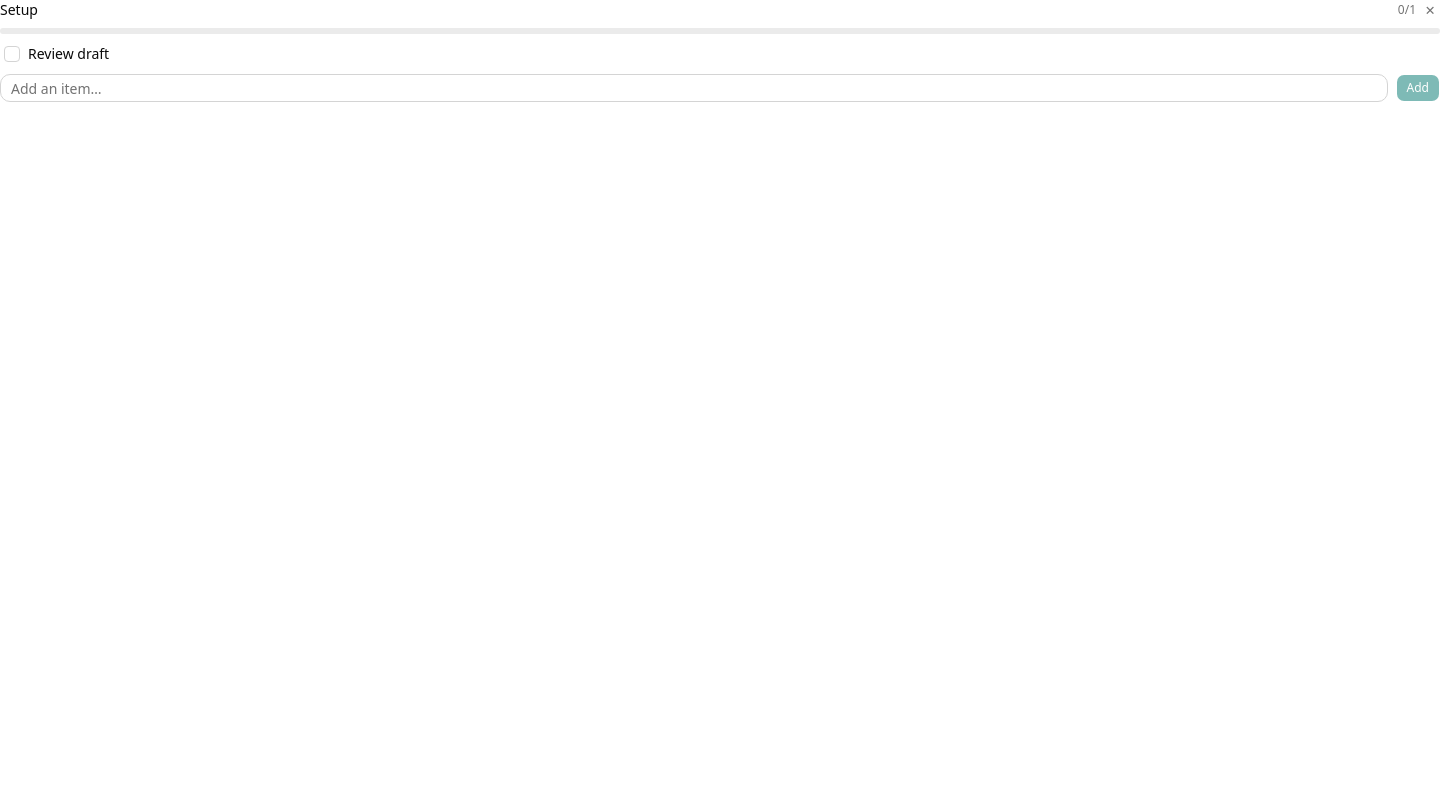
Test: TaskChecklist › Escape in the item title input closes the new-item dialog
Type "New item" into the field with placeholder "Add an item…" at [694, 88], box [0,74,1388,102]
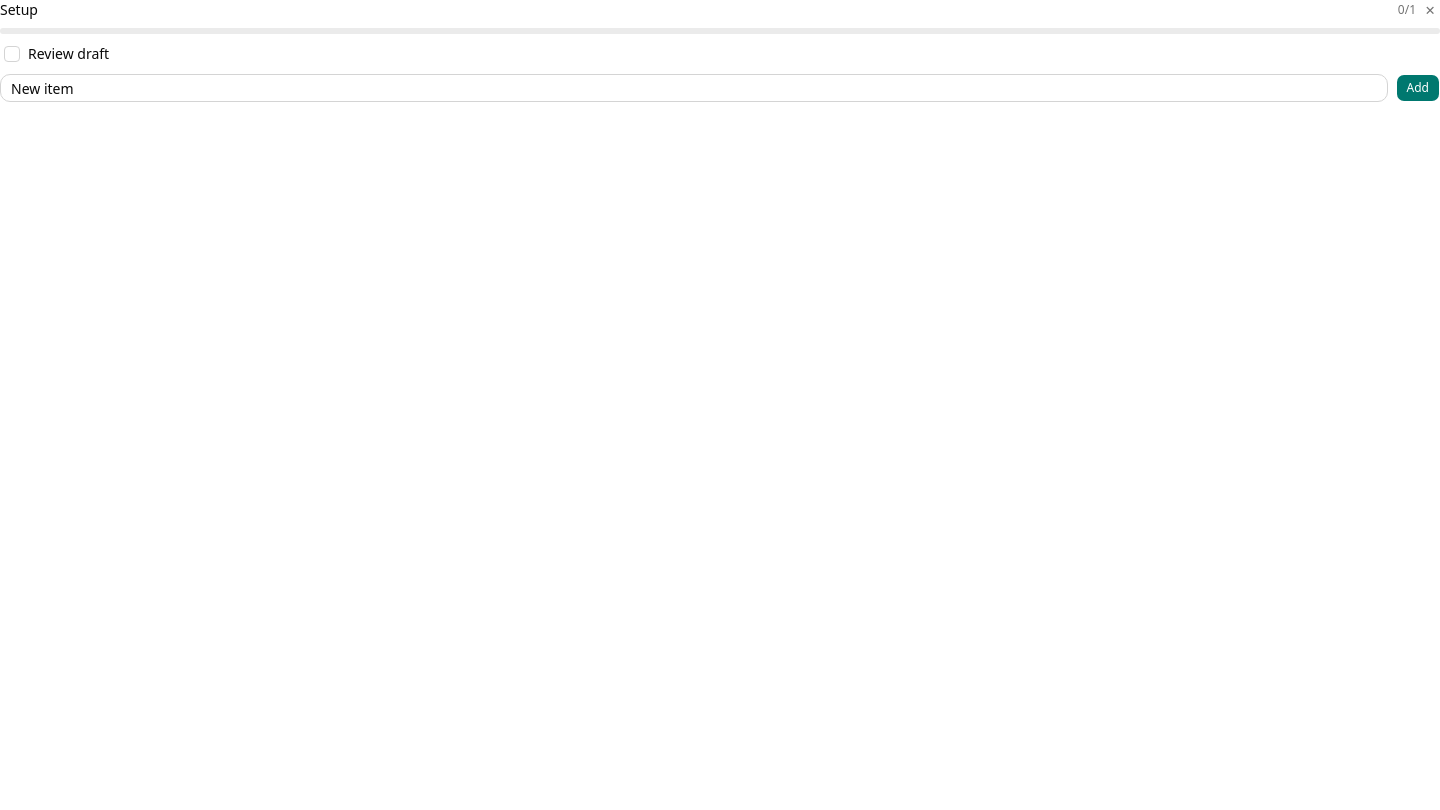
Click the button "Add" at [1418, 88], box [1396,74,1439,102]
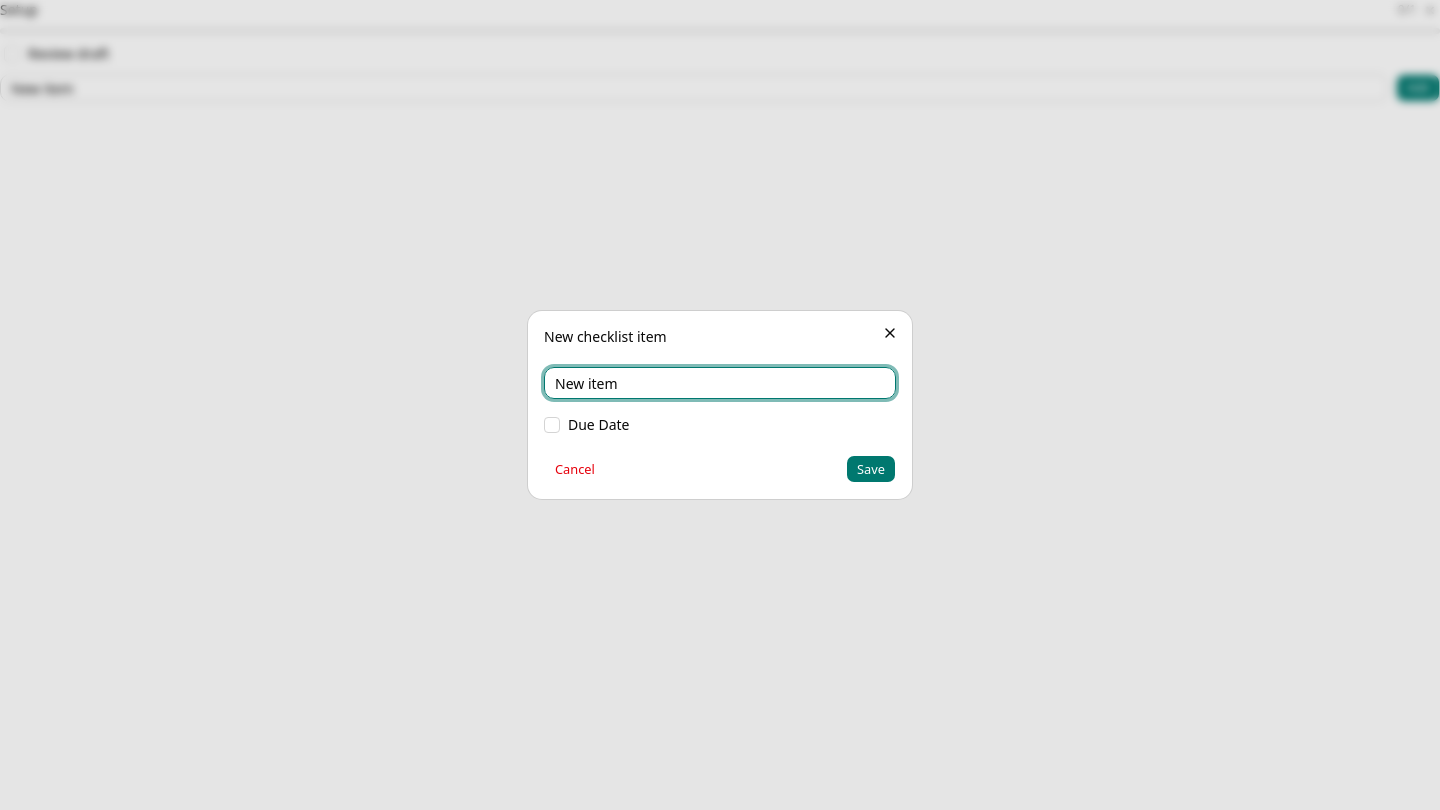
Expected: the heading "New checklist item" is shown, [544,327,667,346]
Press Escape in the field with placeholder "Item title…", box [544,367,896,399]
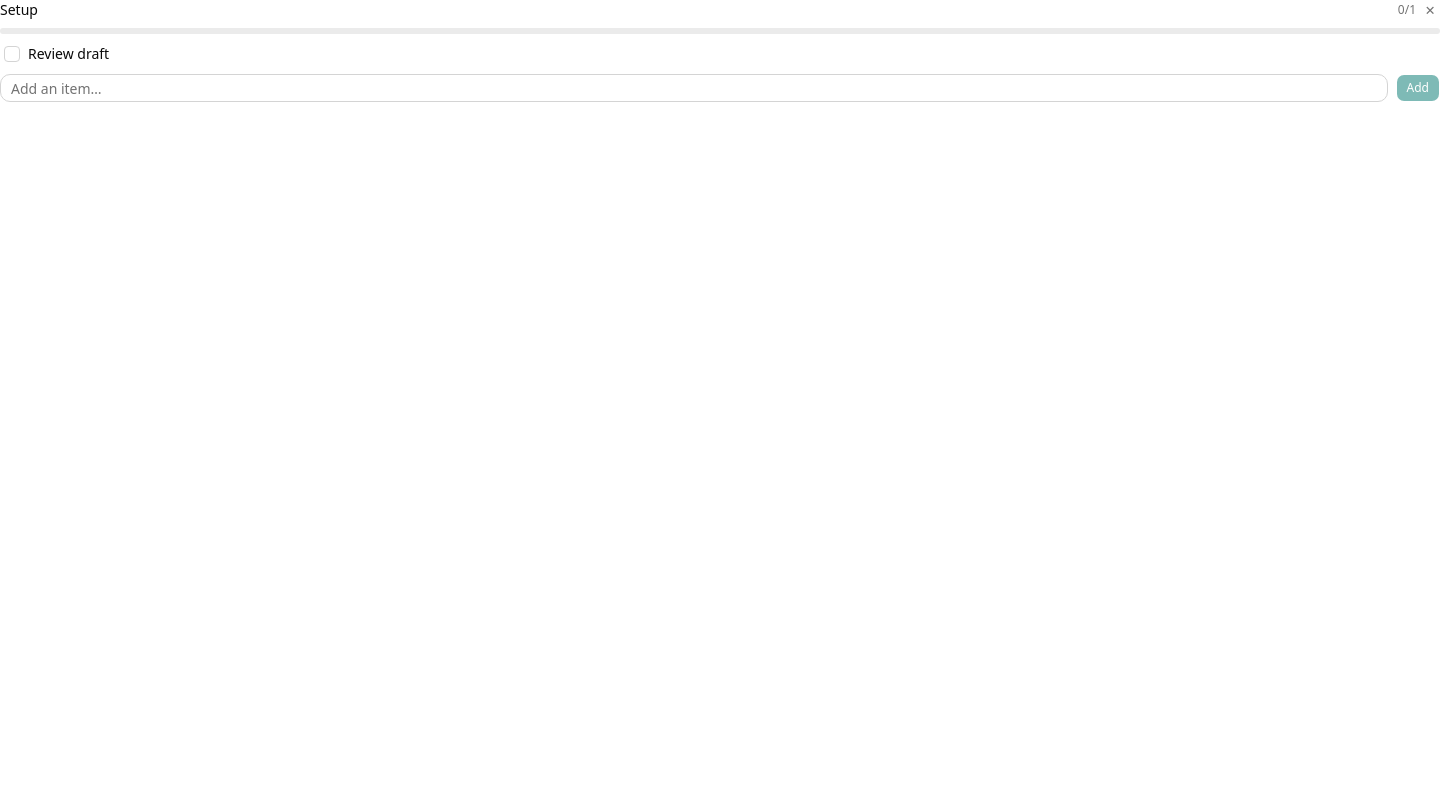
Expected: the heading "New checklist item" is gone
